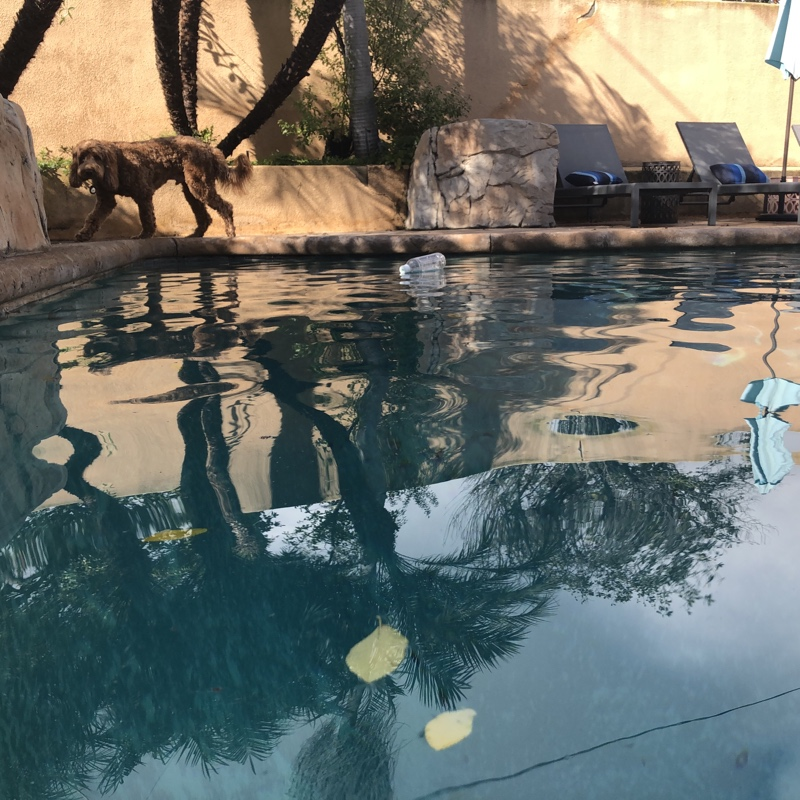Plastic Bottle: (398, 253, 449, 278)
